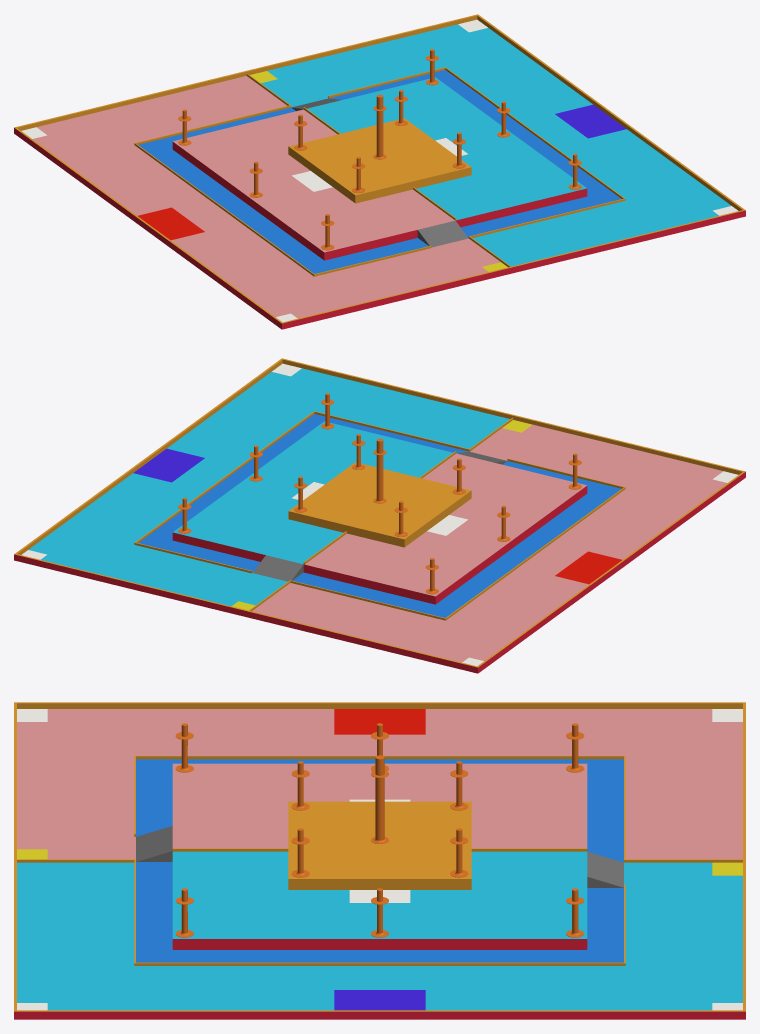
File: gamefield2023.dae
The picture shows the model from 3 angles, top to bottom: view 1: azimuth 30°, elevation 25°; view 2: azimuth 150°, elevation 25°; view 3: azimuth 270°, elevation 25°; orthographic projection. The views are drawn at different scales.
Visible parts, largest first — view 1: gamefield.016; view 2: gamefield.016; view 3: gamefield.016.
Part boxes in pixels (bbox=[...]): gamefield.016: bbox=[14, 14, 745, 329]; gamefield.016: bbox=[14, 358, 745, 673]; gamefield.016: bbox=[14, 702, 745, 1019].
Size of the model in its own units: 12 by 12 by 1.95.
